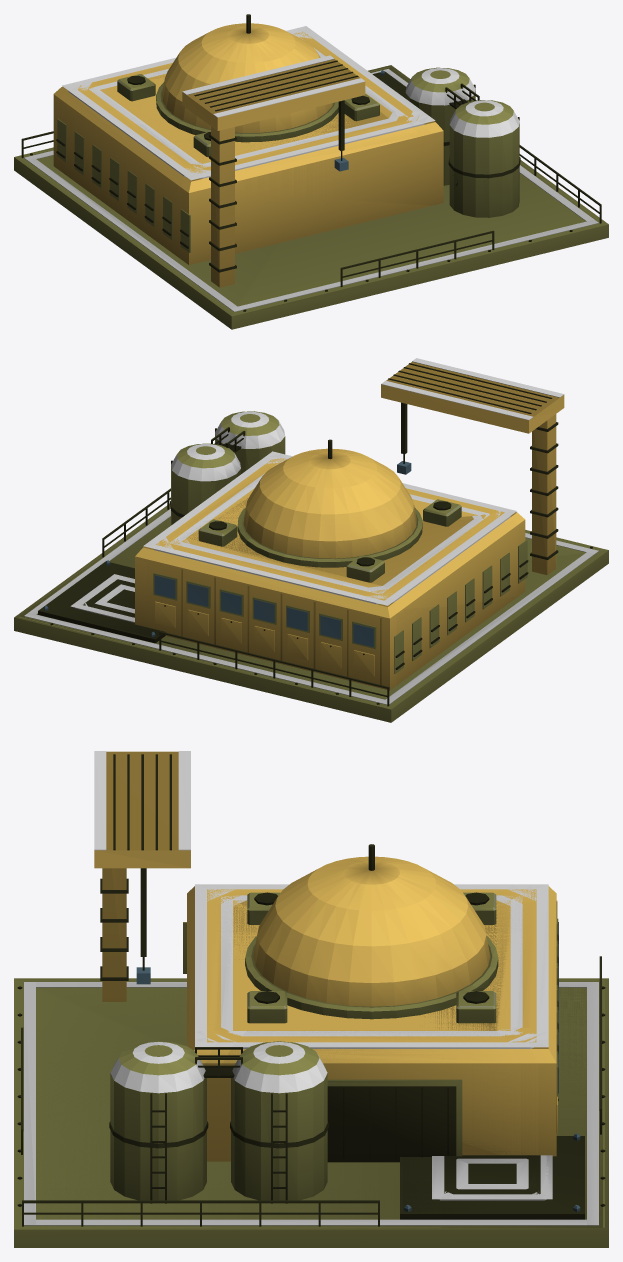
The model's file is meridian_construction_center.glb.
The picture shows the model from 3 angles, top to bottom: view 1: azimuth 30°, elevation 25°; view 2: azimuth 150°, elevation 25°; view 3: azimuth 270°, elevation 25°; orthographic projection. The views are drawn at different scales.
Parts seen in each view (by area): view 1: body (×3); view 2: body (×3); view 3: body (×3).
Boxes of the visible parts, x1=… form: body (×3): x1=14, y1=14, x2=608, y2=329; body (×3): x1=14, y1=358, x2=608, y2=722; body (×3): x1=14, y1=751, x2=608, y2=1247.
Bounding box in the file's own units: 14.8 × 7.02 × 14.8.
